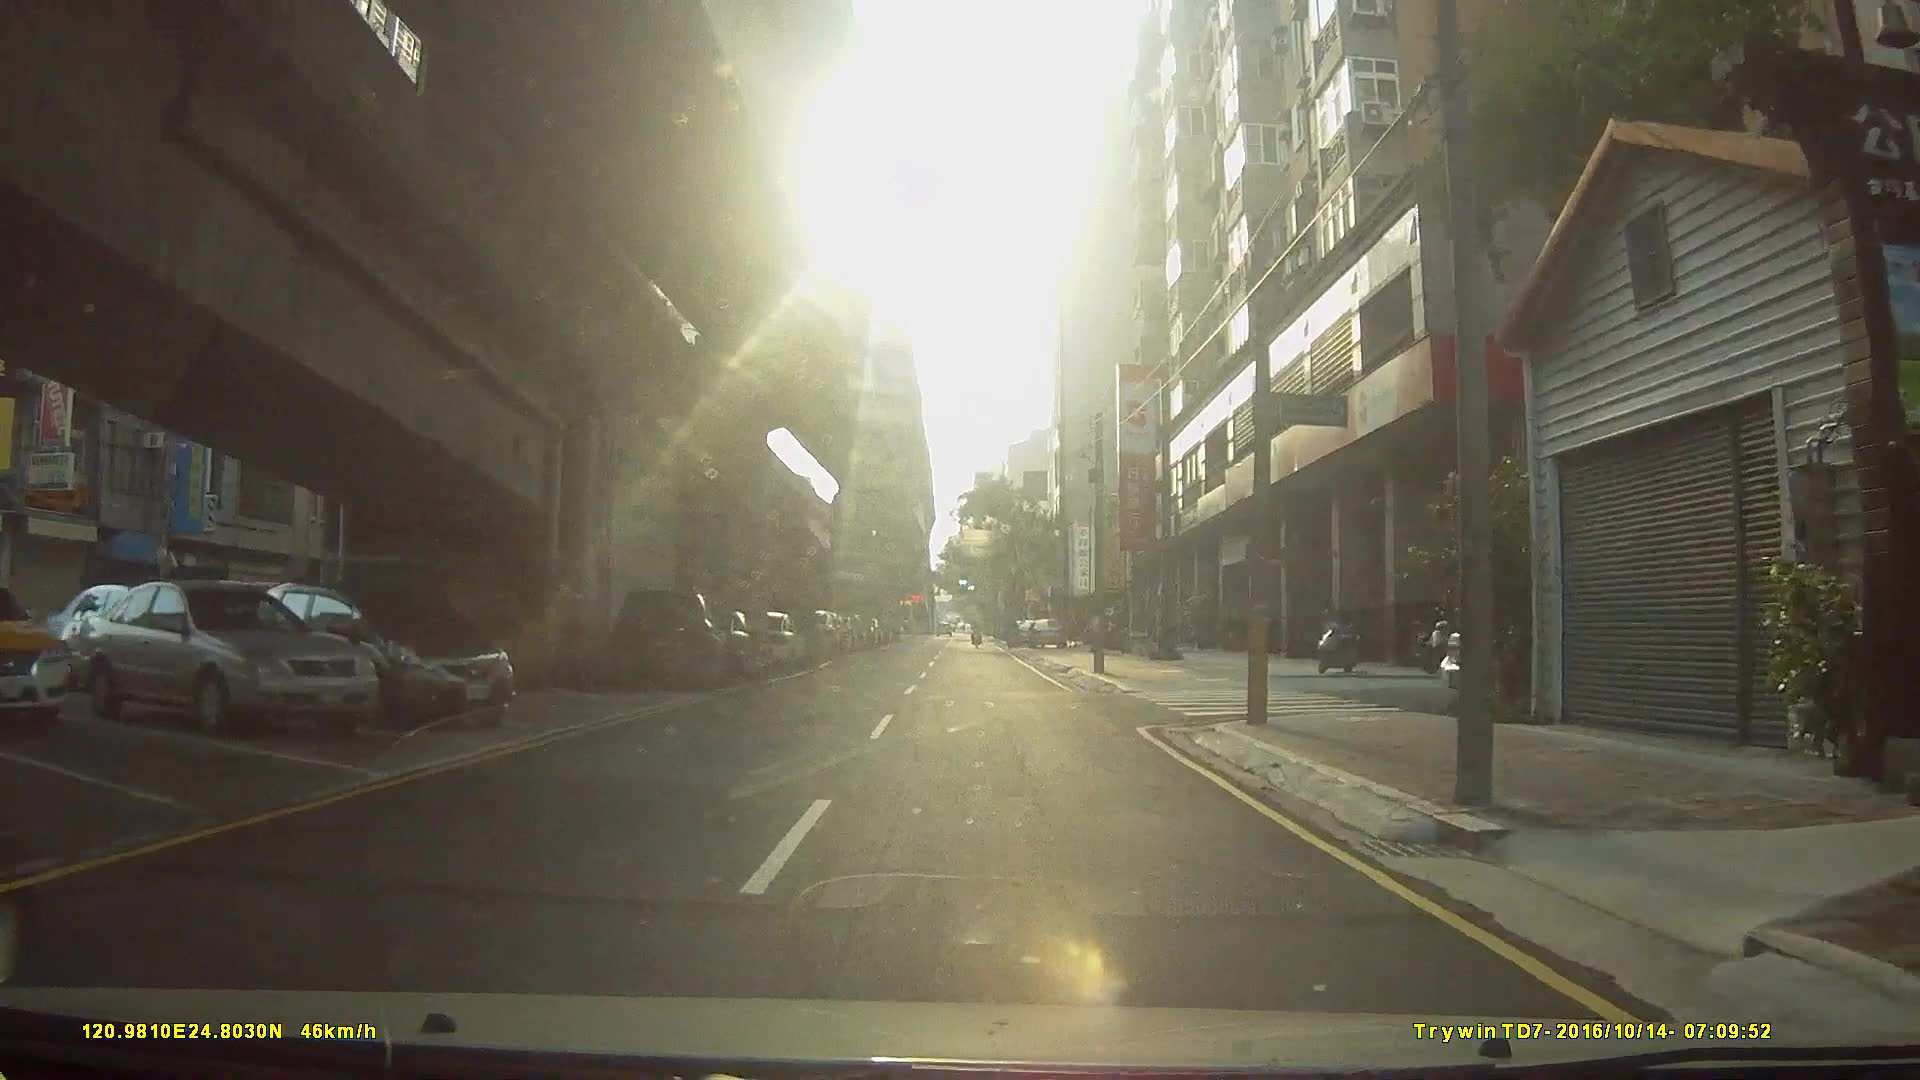vehicle: (73, 583, 375, 740), (258, 580, 521, 731), (604, 588, 735, 692), (0, 589, 73, 728), (1029, 617, 1065, 651)
